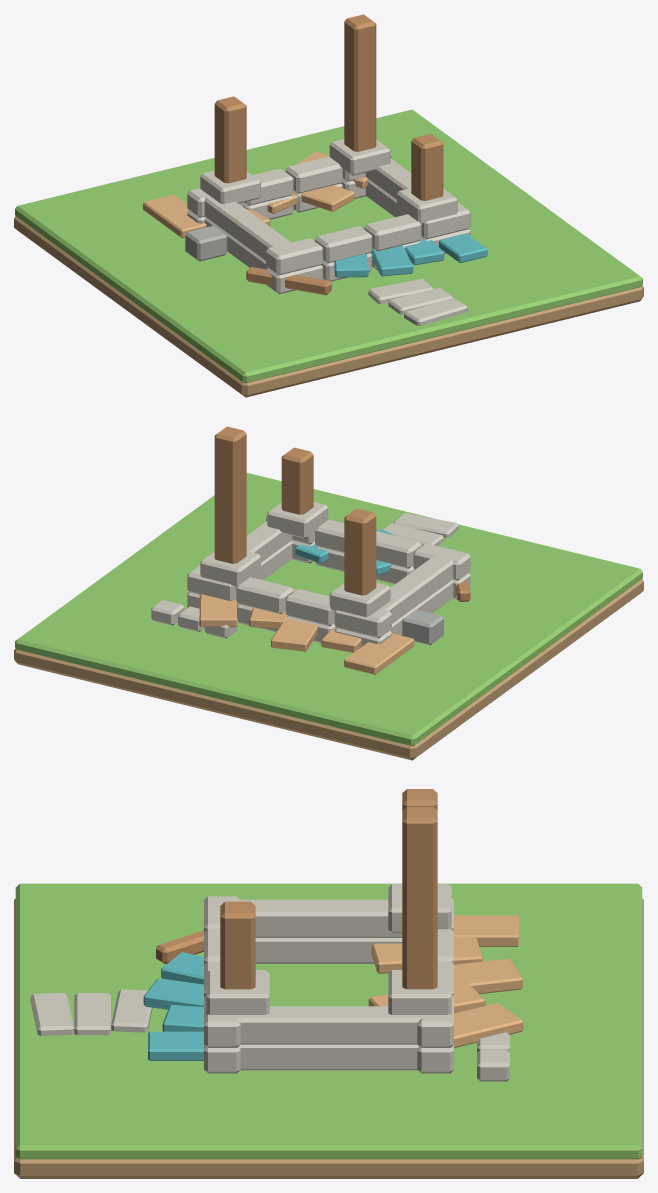
File: tower_l01_ruined_LOD0.glb
3 views of the same model, one above another, from view 1: azimuth 30°, elevation 25°; view 2: azimuth 150°, elevation 25°; view 3: azimuth 270°, elevation 25° (orthographic). The views are drawn at different scales.
Parts seen in each view (by area): view 1: tower_l01_grass_tile, tower_l01_earth_tile, snapped_upright_0.58_0.52, snapped_upright_-0.58_0.52, ruin_stone_return_1_-0.72, snapped_upright_0.58_-0.52, ruin_stone_course_1_-1_0, ruin_stone_course_1_-1_2, ruin_stone_course_1_1_2, ruin_stone_course_1_-1_1, foot_remnant_0.58_0.52, collapsed_deck_0 (+18 smaller); view 2: tower_l01_grass_tile, tower_l01_earth_tile, snapped_upright_0.58_0.52, snapped_upright_-0.58_0.52, ruin_stone_return_1_-0.72, snapped_upright_0.58_-0.52, collapsed_deck_0, ruin_stone_course_1_1_2, foot_remnant_0.58_-0.52, foot_remnant_0.58_0.52, foot_remnant_-0.58_0.52, ruin_stone_course_1_1_1 (+16 smaller); view 3: tower_l01_grass_tile, tower_l01_earth_tile, snapped_upright_0.58_0.52, ruin_stone_return_1_0.72, ruin_stone_return_1_-0.72, ruin_stone_return_0_0.72, ruin_stone_return_0_-0.72, snapped_upright_0.58_-0.52, foot_remnant_0.58_0.52, foot_remnant_0.58_-0.52, collapsed_deck_4, collapsed_deck_0 (+21 smaller).
Part boxes in pixels (x1=…): tower_l01_grass_tile: x1=15, y1=109, x2=642, y2=383; tower_l01_earth_tile: x1=14, y1=216, x2=643, y2=397; snapped_upright_0.58_0.52: x1=344, y1=14, x2=376, y2=151; snapped_upright_-0.58_0.52: x1=214, y1=96, x2=246, y2=183; ruin_stone_return_1_-0.72: x1=204, y1=196, x2=291, y2=260; snapped_upright_0.58_-0.52: x1=411, y1=133, x2=443, y2=200; ruin_stone_course_1_-1_0: x1=266, y1=238, x2=323, y2=275; ruin_stone_course_1_-1_2: x1=364, y1=214, x2=421, y2=251; ruin_stone_course_1_1_2: x1=285, y1=156, x2=342, y2=193; ruin_stone_course_1_-1_1: x1=315, y1=226, x2=372, y2=263; foot_remnant_0.58_0.52: x1=329, y1=139, x2=390, y2=175; collapsed_deck_0: x1=143, y1=194, x2=206, y2=238; tower_l01_grass_tile: x1=15, y1=473, x2=642, y2=745; tower_l01_earth_tile: x1=14, y1=579, x2=643, y2=760; snapped_upright_0.58_0.52: x1=214, y1=426, x2=246, y2=563; snapped_upright_-0.58_0.52: x1=344, y1=508, x2=376, y2=595; ruin_stone_return_1_-0.72: x1=380, y1=555, x2=453, y2=623; snapped_upright_0.58_-0.52: x1=281, y1=447, x2=313, y2=514; collapsed_deck_0: x1=344, y1=633, x2=414, y2=674; ruin_stone_course_1_1_2: x1=236, y1=577, x2=293, y2=613; foot_remnant_0.58_-0.52: x1=267, y1=502, x2=328, y2=538; foot_remnant_0.58_0.52: x1=200, y1=551, x2=260, y2=586; foot_remnant_-0.58_0.52: x1=329, y1=582, x2=390, y2=617; ruin_stone_course_1_1_1: x1=285, y1=589, x2=334, y2=626; tower_l01_grass_tile: x1=15, y1=883, x2=642, y2=1159; tower_l01_earth_tile: x1=14, y1=899, x2=643, y2=1178; snapped_upright_0.58_0.52: x1=402, y1=806, x2=437, y2=989; ruin_stone_return_1_0.72: x1=231, y1=1006, x2=426, y2=1044; ruin_stone_return_1_-0.72: x1=231, y1=899, x2=402, y2=937; ruin_stone_return_0_0.72: x1=239, y1=1044, x2=418, y2=1070; ruin_stone_return_0_-0.72: x1=255, y1=938, x2=402, y2=963; snapped_upright_0.58_-0.52: x1=220, y1=901, x2=255, y2=989; foot_remnant_0.58_0.52: x1=388, y1=970, x2=451, y2=1014; foot_remnant_0.58_-0.52: x1=206, y1=970, x2=269, y2=1014; collapsed_deck_4: x1=454, y1=1003, x2=523, y2=1047; collapsed_deck_0: x1=454, y1=915, x2=518, y2=946.
Size of the model in its own units: 3.6 by 1.76 by 3.6.
